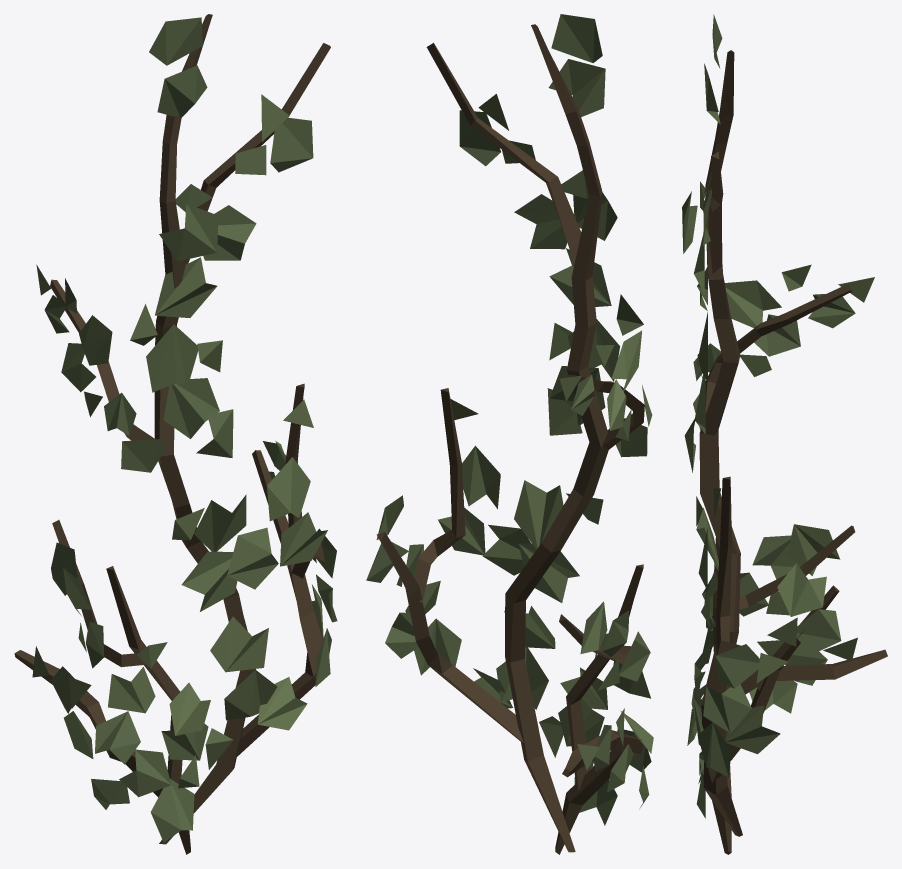
Rendered from SM_Bld_Pillar_01_Vine_02.obj.
3 renders of one model, left to right at view 1: azimuth 30°, elevation 25°; view 2: azimuth 150°, elevation 25°; view 3: azimuth 270°, elevation 25°, orthographic. The views are drawn at different scales.
Visible parts, largest first — view 1: SM_Bld_Pillar_01_Vine_02_0; view 2: SM_Bld_Pillar_01_Vine_02_0; view 3: SM_Bld_Pillar_01_Vine_02_0.
Part boxes in pixels (x1,y1,x2,y2): SM_Bld_Pillar_01_Vine_02_0: [14, 14, 337, 854]; SM_Bld_Pillar_01_Vine_02_0: [366, 14, 653, 854]; SM_Bld_Pillar_01_Vine_02_0: [682, 14, 887, 854].
Size of the model in its own units: 0.6539 by 2.16 by 0.4873.
